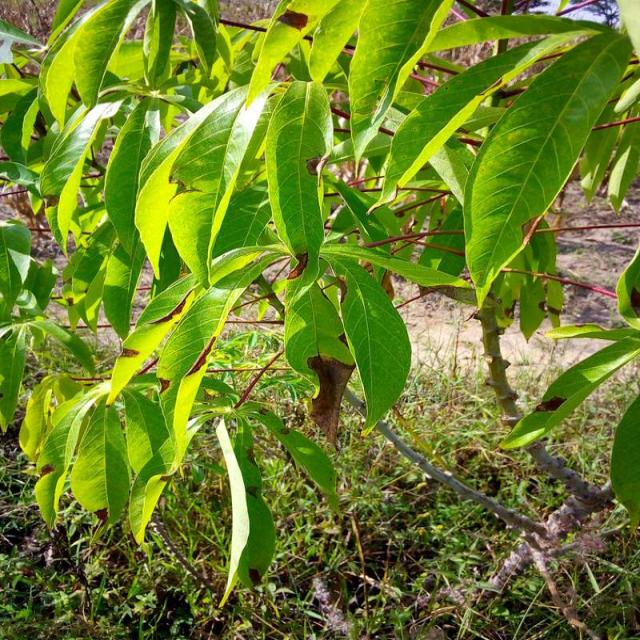cassava leaf: (4, 1, 638, 605), (461, 27, 633, 309), (133, 80, 282, 290), (264, 79, 334, 289)
